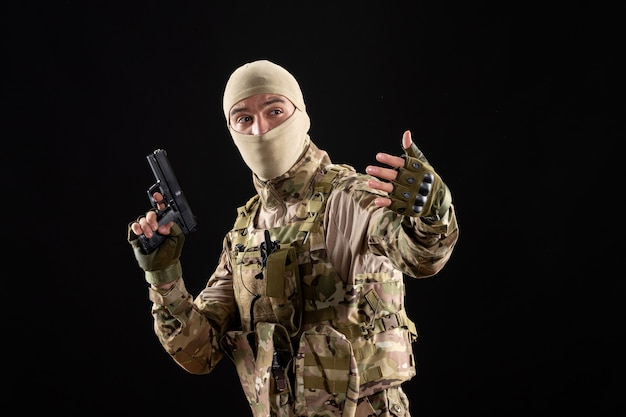gun: (138, 147, 199, 253)
